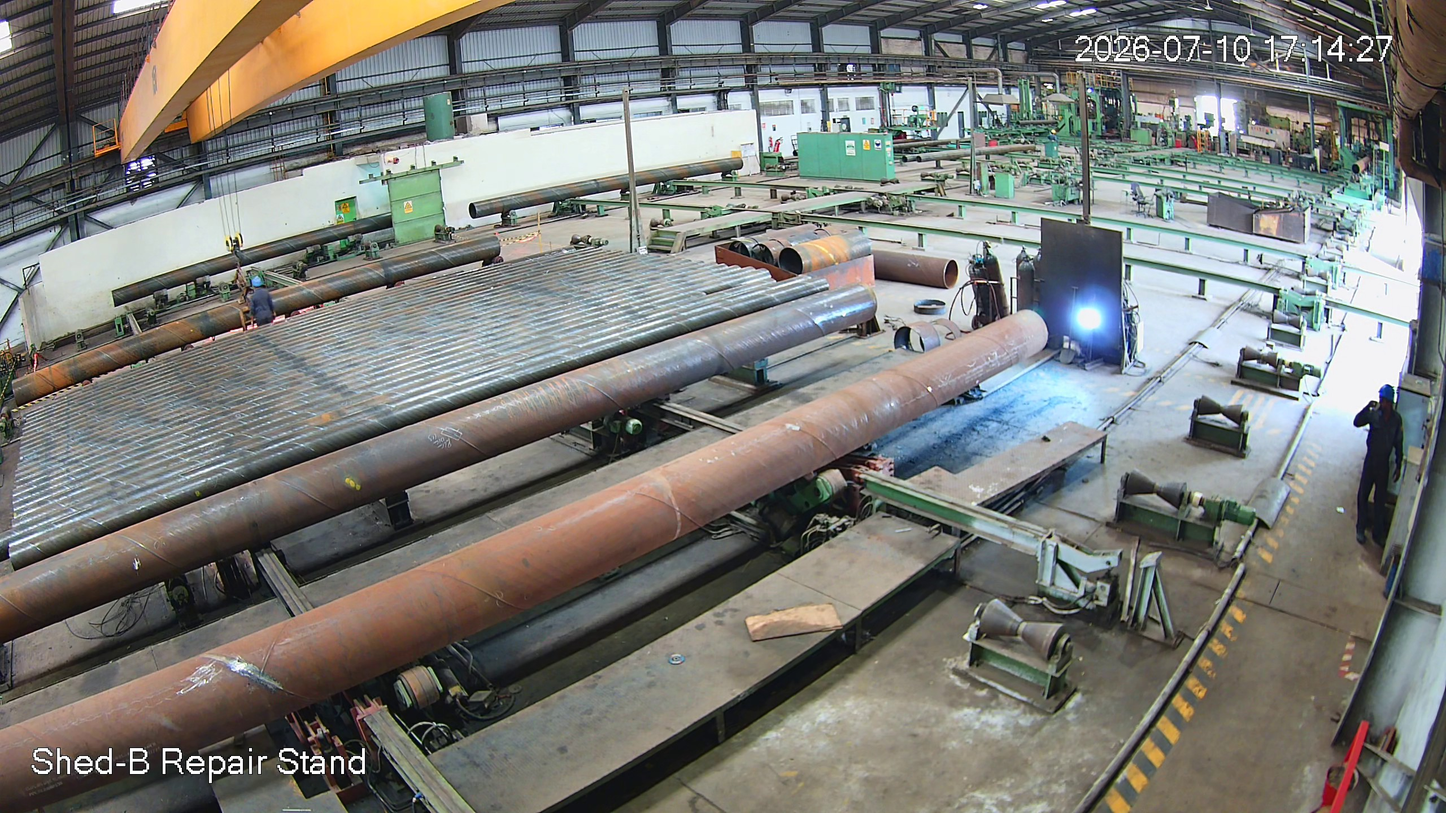Helmet: (1370, 377, 1411, 435), (248, 273, 268, 295)
Person: (1353, 383, 1415, 560), (246, 277, 273, 331)
